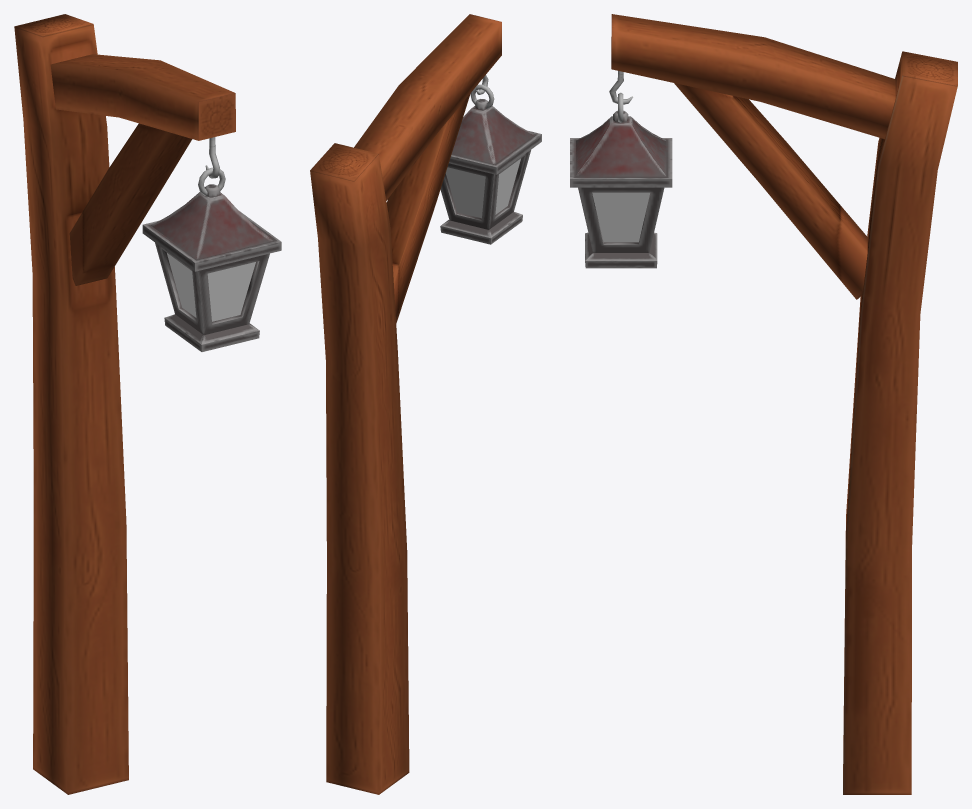
File: lamp_low.fbx
3 renders of one model, left to right at view 1: azimuth 30°, elevation 25°; view 2: azimuth 150°, elevation 25°; view 3: azimuth 270°, elevation 25°, orthographic. The views are drawn at different scales.
Visible parts, largest first — view 1: hook_low; view 2: hook_low; view 3: hook_low.
Part boxes in pixels (x1,y1,x2,y2): hook_low: [14, 14, 281, 794]; hook_low: [310, 14, 541, 794]; hook_low: [570, 14, 957, 794].
Bounding box in the file's own units: 24.02 × 206 × 95.48.
